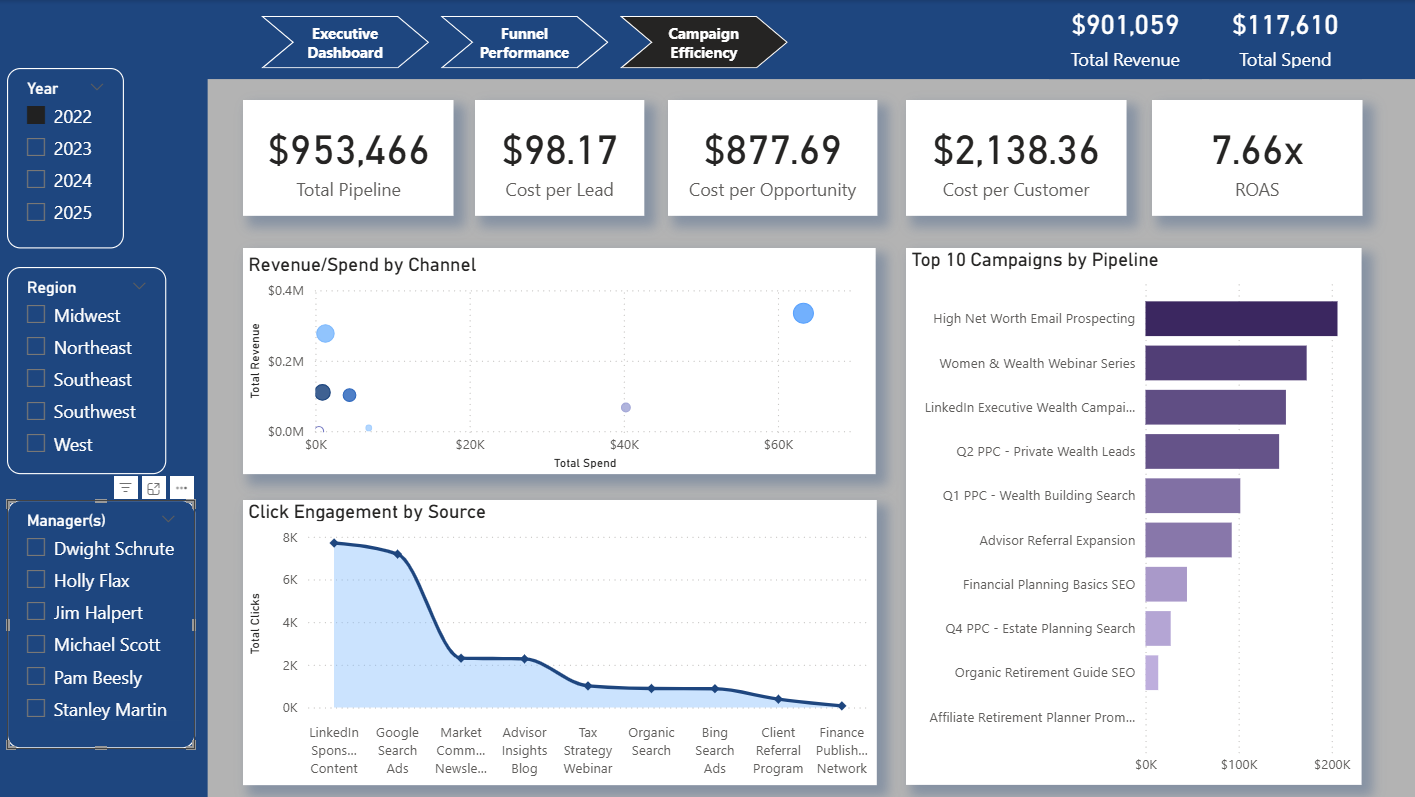

The dashboard page shown, as its layout file describes it:
{"tool":"powerbi","page":{"name":"Campaign Efficiency","canvas":[1280,720],"ordinal":2},"visuals":[{"type":"shape","box":[0,0,1280,71],"z":0},{"type":"shape","box":[0,0,190,720],"z":1000},{"type":"slicer","fields":{"Values":["Dim_Date.Date.Variation.Date Hierarchy.Year"]},"box":[10,61,105,162],"z":2000},{"type":"slicer","fields":{"Values":["Dim_Region.RegionName"]},"box":[10,240,143,186],"z":4000},{"type":"slicer","fields":{"Values":["Dim_Campaign.OwnerName"]},"box":[10,449,169,223],"z":5000},{"type":"card","fields":{"Values":["Measures (2).Total Revenue"]},"box":[945,0,137,71],"z":13000},{"type":"card","fields":{"Values":["Measures (2).Total Spend"]},"box":[1089,0,137,71],"z":14000},{"type":"pageNavigator","box":[238,14,473,47],"z":17000},{"type":"card","fields":{"Values":["Measures (2).Total Pipeline"]},"box":[221.7,89.8,189.4,104.1],"z":17001},{"type":"card","fields":{"Values":["Measures (2).CPL"]},"box":[430,90,152,104],"z":17002},{"type":"card","fields":{"Values":["Measures (2).Cost per Opportunity"]},"box":[603.5,89.6,187.9,104.2],"z":17003},{"type":"card","fields":{"Values":["Measures (2).Cost per Customer"]},"box":[816.7,89.6,197.6,104.2],"z":17004},{"type":"card","fields":{"Values":["Measures (2).ROAS"]},"box":[1037.6,89.6,188.8,104.2],"z":17005},{"type":"clusteredBarChart","title":"Top 10 Campaigns by Pipeline","fields":{"Category":["Dim_Campaign.CampaignName"],"Y":["Measures (2).Total Pipeline"]},"box":[817,222.6,409.4,482.1],"z":17007},{"type":"scatterChart","title":"Revenue/Spend by Channel","fields":{"Category":["Dim_Channel.ChannelName"],"Size":["Measures (2).Total Customers"],"Y":["Measures (2).Total Revenue"],"X":["Measures (2).Total Spend"]},"box":[221.9,222.9,568.5,203.4],"z":17009},{"type":"areaChart","title":"Click Engagement by Source","fields":{"Category":["Dim_Source.SourceName"],"Y":["Measures (2).Total Clicks"]},"box":[221.9,448.7,569.4,256],"z":17010}]}

Visuals, with their boxes in screenshot pixels (x1, y1, x2, y2), scaled from the page's 1280x720 canvas onto the 1415x797 screenshot:
shape: left=0, top=0, right=1414, bottom=79
shape: left=0, top=0, right=210, bottom=796
slicer - Dim_Date.Date.Variation.Date Hierarchy.Year: left=11, top=68, right=127, bottom=247
slicer - Dim_Region.RegionName: left=11, top=266, right=169, bottom=472
slicer - Dim_Campaign.OwnerName: left=11, top=497, right=198, bottom=744
card - Measures (2).Total Revenue: left=1045, top=0, right=1196, bottom=79
card - Measures (2).Total Spend: left=1204, top=0, right=1355, bottom=79
pageNavigator: left=263, top=15, right=786, bottom=68
card - Measures (2).Total Pipeline: left=245, top=99, right=454, bottom=215
card - Measures (2).CPL: left=475, top=100, right=643, bottom=215
card - Measures (2).Cost per Opportunity: left=667, top=99, right=875, bottom=215
card - Measures (2).Cost per Customer: left=903, top=99, right=1121, bottom=215
card - Measures (2).ROAS: left=1147, top=99, right=1356, bottom=215
"Top 10 Campaigns by Pipeline" clusteredBarChart: left=903, top=246, right=1356, bottom=780
"Revenue/Spend by Channel" scatterChart: left=245, top=247, right=874, bottom=472
"Click Engagement by Source" areaChart: left=245, top=497, right=875, bottom=780
